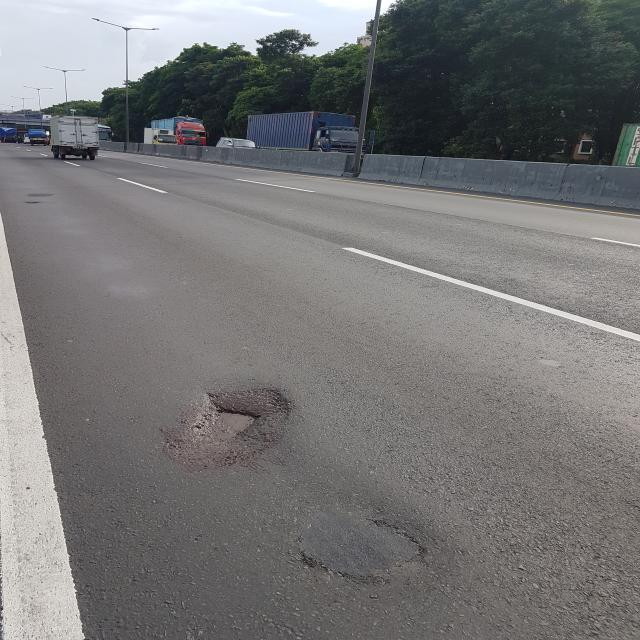Buraco: (189, 390, 264, 444), (20, 198, 43, 207)
